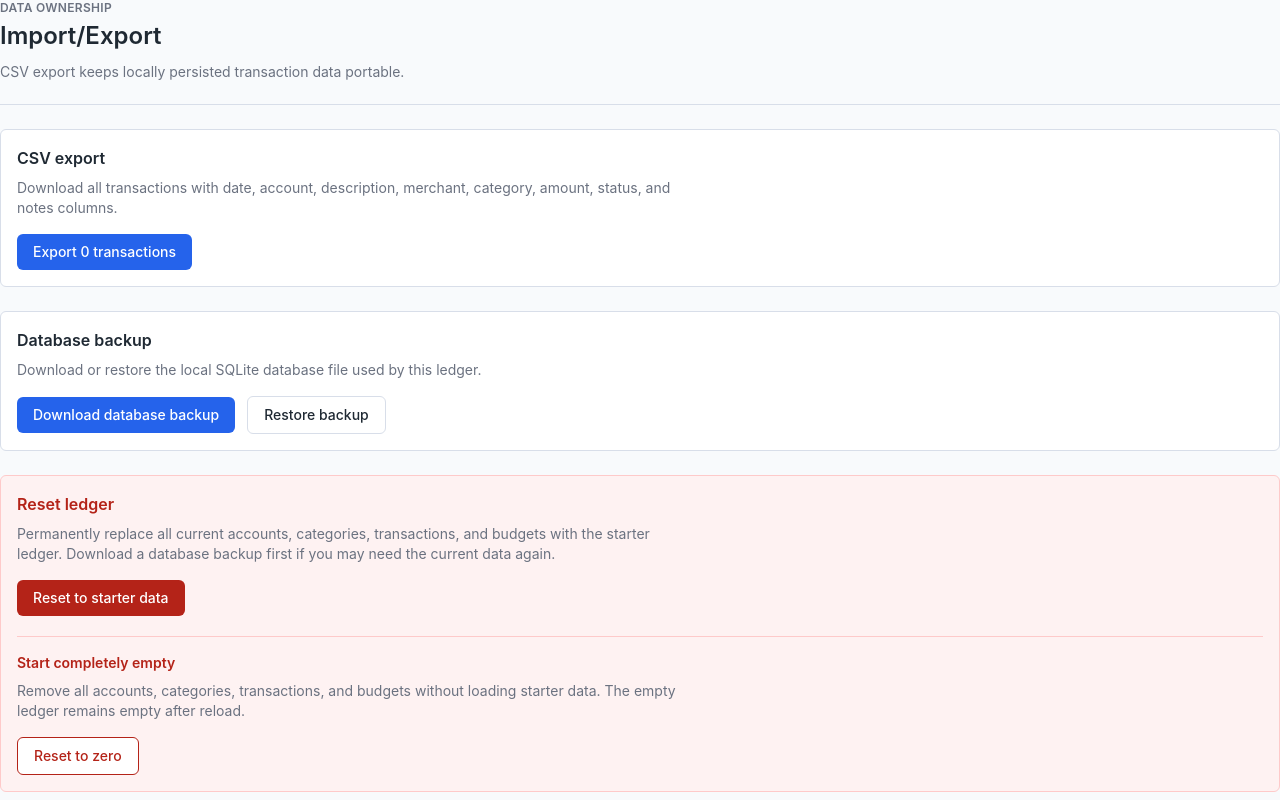
Test case: ImportExportPage › requires confirmation and leaves a distinct live result when resetting to zero
Click the button "Reset to zero" at (78, 756), box [17,737,139,775]
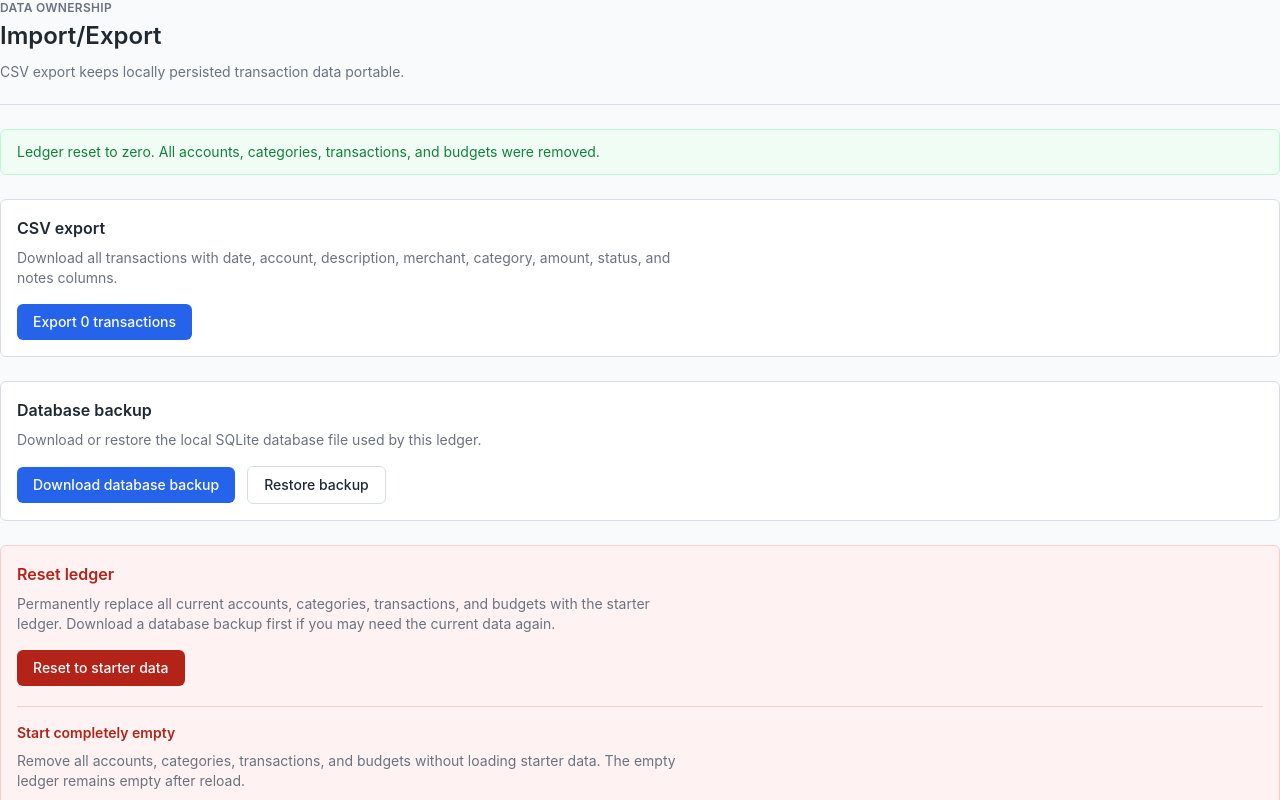
Expected: the message shows "Ledger reset to zero. All accounts, categories, transactions, and budgets were removed.", [17,143,600,160]
